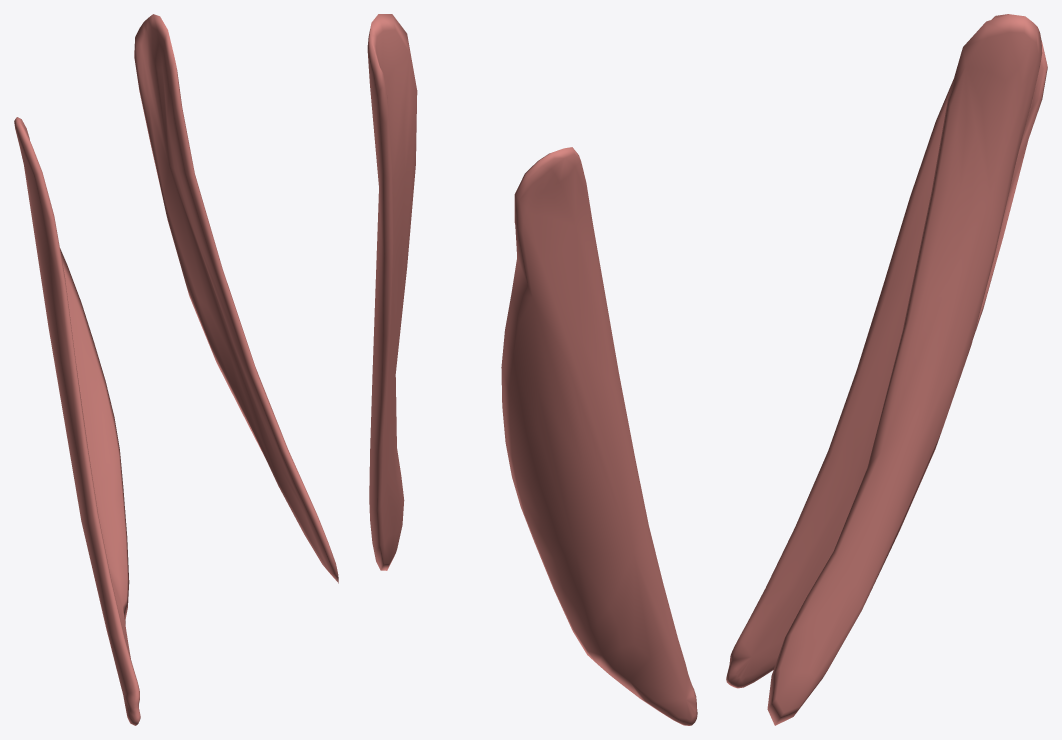
3 renders of one model, left to right at view 1: azimuth 30°, elevation 25°; view 2: azimuth 150°, elevation 25°; view 3: azimuth 270°, elevation 25°, orthographic. The views are drawn at different scales.
Parts seen in each view (by area): view 1: ZA_14fcbc43ea86a815; view 2: ZA_14fcbc43ea86a815; view 3: ZA_14fcbc43ea86a815.
Boxes of the visible parts, x1,y1,x2,y2 form: ZA_14fcbc43ea86a815: [14, 14, 338, 725]; ZA_14fcbc43ea86a815: [367, 14, 697, 725]; ZA_14fcbc43ea86a815: [726, 14, 1047, 725].
Bounding box in the file's own units: 0.013 × 0.0319 × 0.0123.
